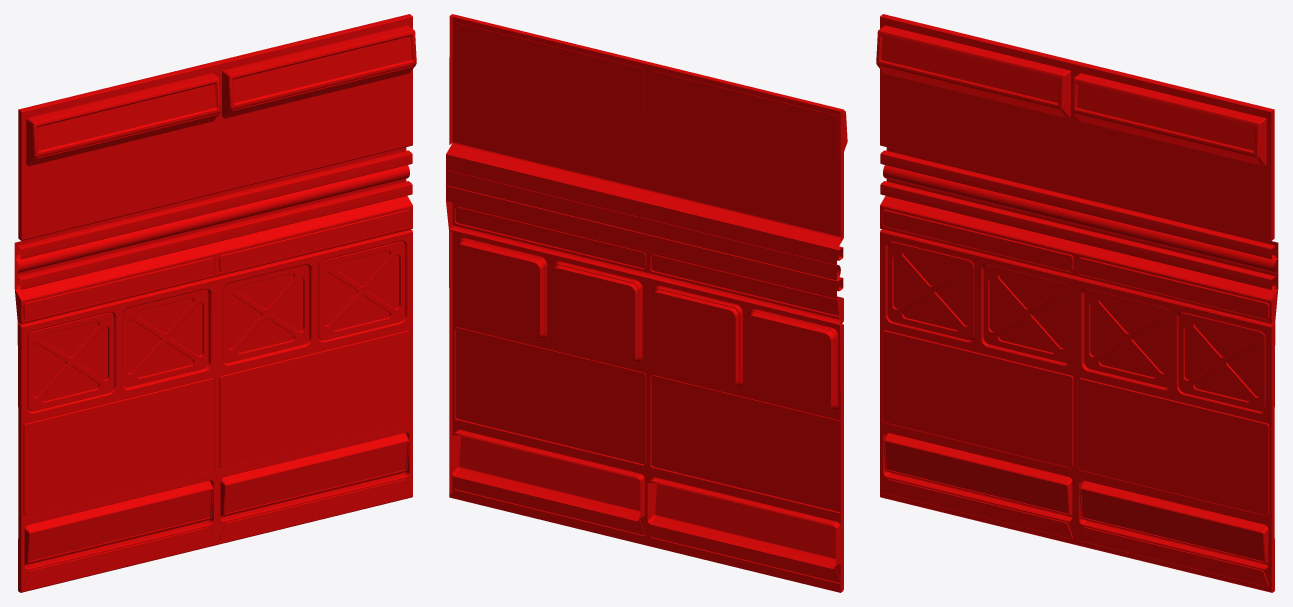
File: Wall_20.fbx
The picture shows the model from 3 angles, left to right: view 1: azimuth 30°, elevation 25°; view 2: azimuth 150°, elevation 25°; view 3: azimuth 330°, elevation 25°; orthographic projection.
Visible parts, largest first — view 1: L12:polySurface2649; view 2: L12:polySurface2649; view 3: L12:polySurface2649.
Part boxes in pixels (x1,y1,x2,y2): L12:polySurface2649: (14,14,416,592); L12:polySurface2649: (445,14,847,592); L12:polySurface2649: (876,14,1278,592).
Bounding box in the file's own units: 648 × 761 × 46.4.
